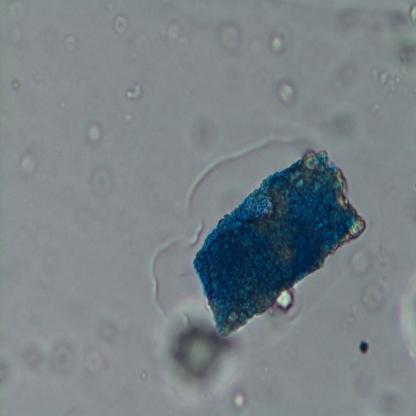Background material: (184, 130, 278, 226), (162, 300, 235, 396), (142, 234, 206, 326), (77, 302, 121, 379), (342, 363, 402, 413), (364, 45, 416, 98), (24, 336, 74, 382), (186, 107, 230, 156), (398, 264, 416, 354), (319, 102, 355, 144), (162, 17, 196, 58), (0, 1, 32, 43), (119, 28, 154, 63), (359, 280, 389, 317), (216, 17, 244, 56), (15, 146, 40, 184), (381, 5, 408, 36), (276, 284, 299, 320), (335, 3, 360, 33), (230, 382, 250, 413), (351, 247, 371, 276), (268, 31, 288, 57), (277, 82, 298, 106), (84, 121, 104, 146), (91, 171, 110, 196), (55, 32, 76, 53), (124, 80, 146, 100), (354, 336, 371, 358), (112, 13, 128, 36), (6, 72, 24, 92), (406, 2, 416, 27), (122, 108, 134, 126), (140, 370, 148, 380)
Fragment: (193, 145, 365, 337)
